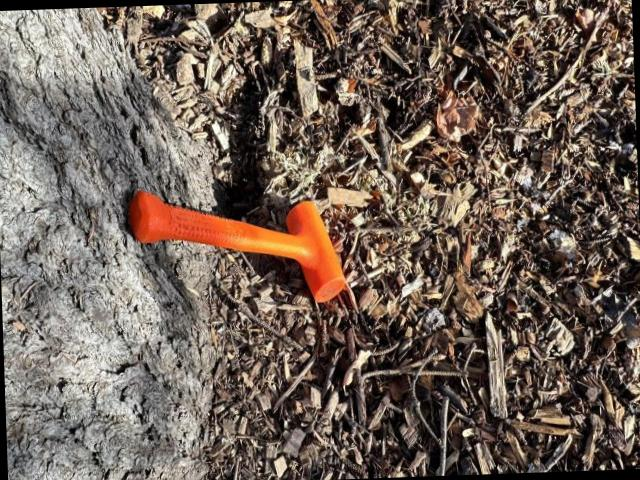hammer: (125, 184, 348, 308)
